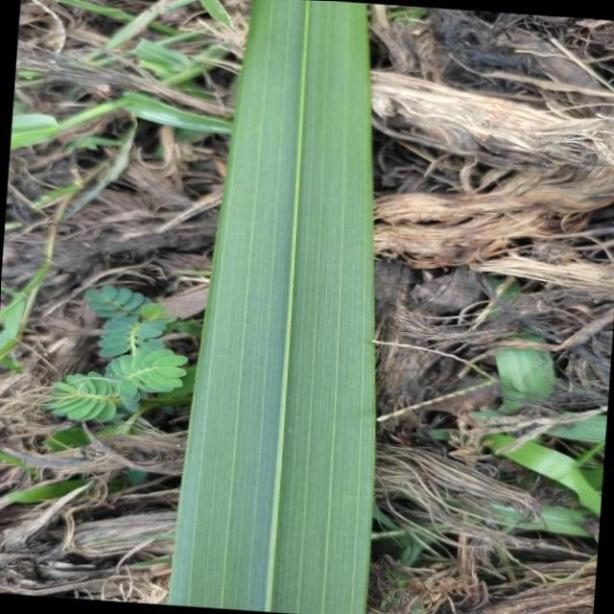Healthy: (161, 0, 376, 614)
